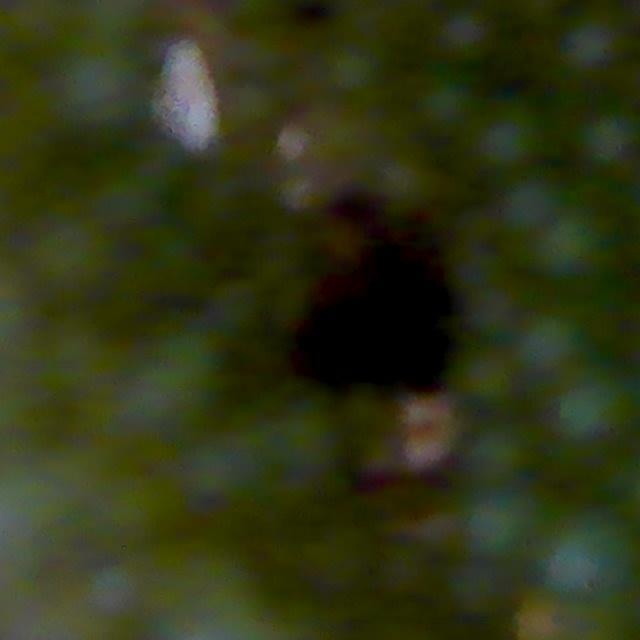SeaGrape: (541, 511, 636, 604), (57, 45, 140, 127), (462, 100, 546, 181), (464, 481, 547, 562), (533, 206, 613, 286), (551, 376, 631, 452), (462, 423, 532, 492), (514, 308, 584, 375), (411, 73, 479, 138), (558, 12, 625, 77), (452, 346, 519, 409), (576, 107, 640, 172), (431, 2, 496, 66), (498, 173, 562, 235)
